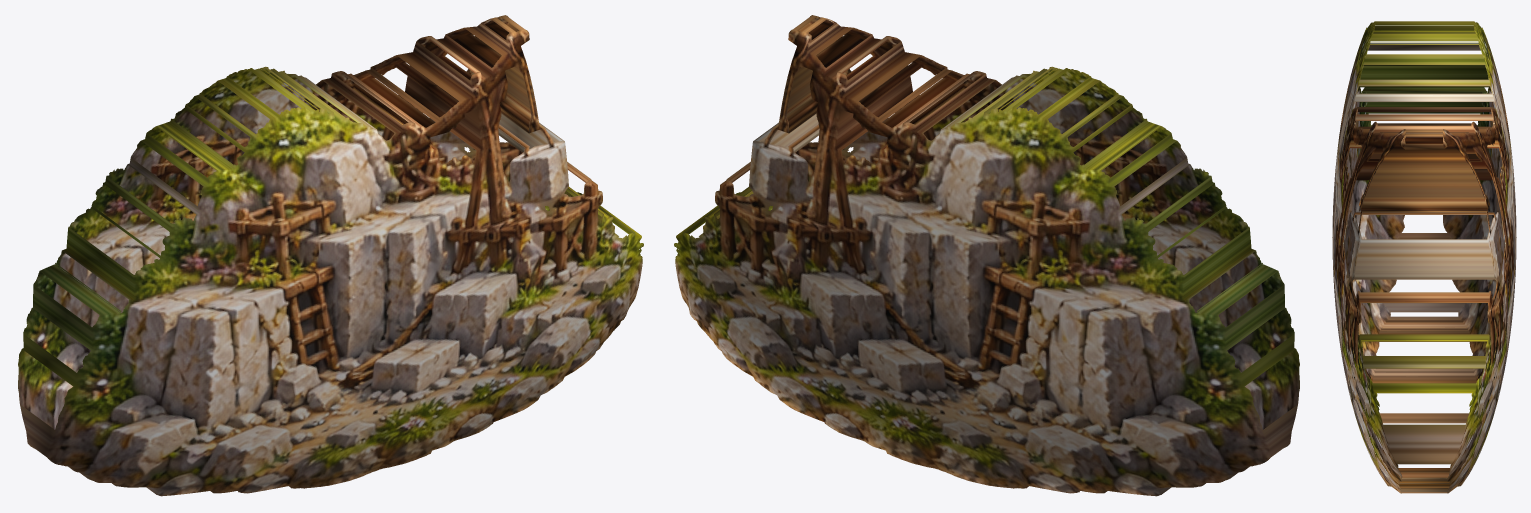
3 views of the same model, side by side, from view 1: azimuth 30°, elevation 25°; view 2: azimuth 150°, elevation 25°; view 3: azimuth 270°, elevation 25° (orthographic). The views are drawn at different scales.
Parts seen in each view (by area): view 1: villages:4; view 2: villages:4; view 3: villages:4.
Part boxes in pixels (bbox=[...]): villages:4: bbox=[18, 15, 643, 496]; villages:4: bbox=[674, 15, 1299, 496]; villages:4: bbox=[1332, 21, 1516, 493].
Size of the model in its own units: 1.47 by 0.9444 by 0.42.
Materials: 1 (1 with a texture image).
